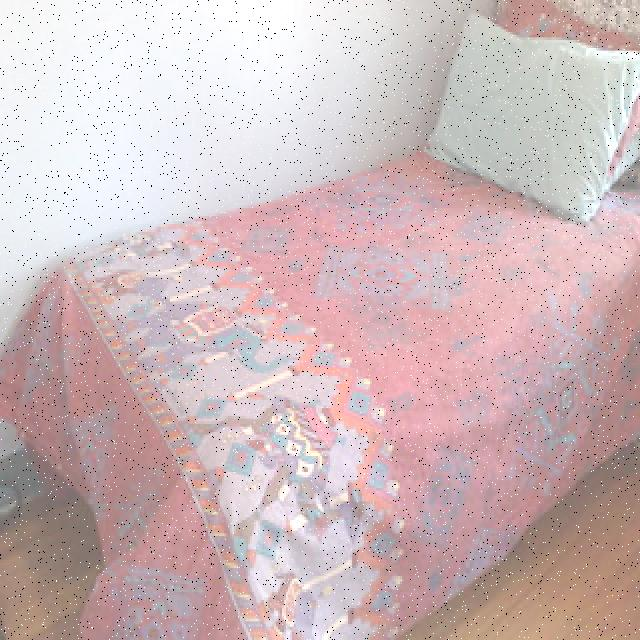bed: (14, 6, 640, 640)
